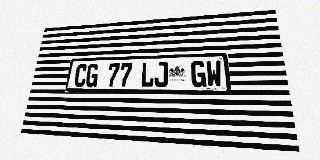7: (118, 63, 133, 87), (106, 63, 120, 87)
C: (73, 64, 88, 87)
G: (191, 61, 206, 87), (85, 64, 99, 87)
J: (154, 62, 168, 87)
L: (140, 62, 155, 87)
W: (206, 60, 222, 87)
